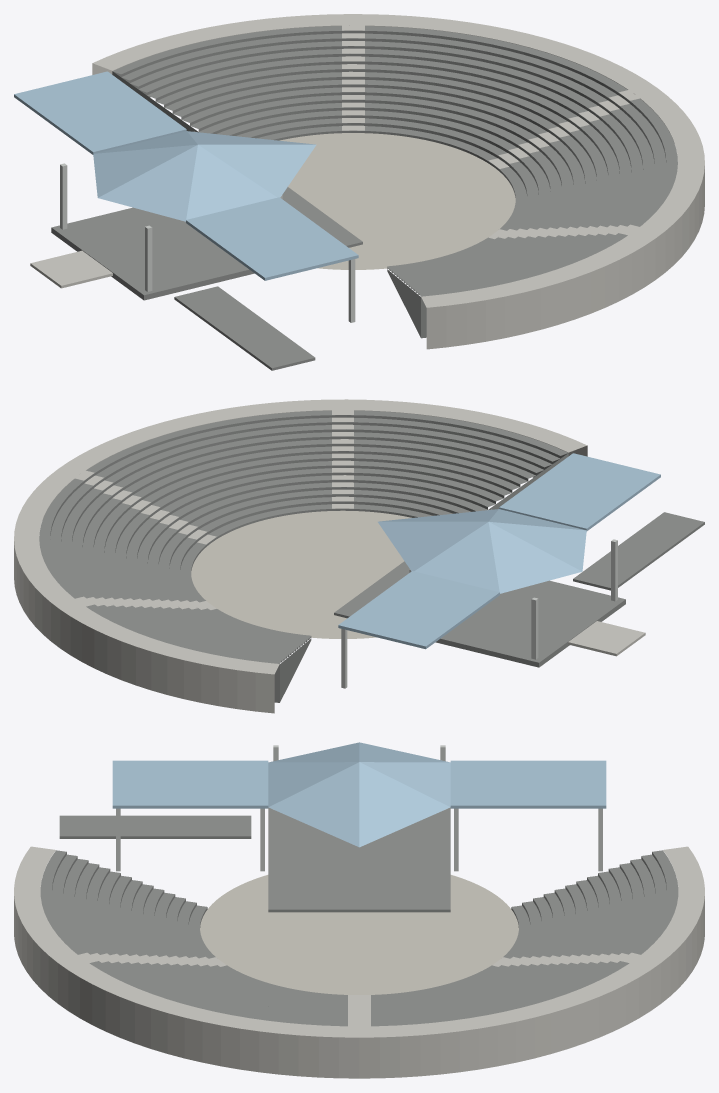
The picture shows the model from 3 angles, top to bottom: view 1: azimuth 30°, elevation 25°; view 2: azimuth 150°, elevation 25°; view 3: azimuth 270°, elevation 25°; orthographic projection. The views are drawn at different scales.
Visible parts, largest first — view 1: c16__seating, c16__rim-walk, c16__arena, c16__canopy, c16__stage, c16__roof-wing1, c16__roof-wing-1, c16__aisle-steps, c16__side-entry-walk, c16__stage-back-walk; view 2: c16__seating, c16__rim-walk, c16__arena, c16__canopy, c16__stage, c16__roof-wing-1, c16__roof-wing1, c16__aisle-steps, c16__side-entry-walk, c16__stage-back-walk; view 3: c16__rim-walk, c16__seating, c16__arena, c16__stage, c16__canopy, c16__roof-wing-1, c16__roof-wing1, c16__side-entry-walk, c16__aisle-steps.
Boxes of the visible parts, x1,y1,x2,y2 form: c16__seating: [112, 26, 677, 338]; c16__rim-walk: [92, 14, 704, 349]; c16__arena: [280, 133, 515, 269]; c16__canopy: [93, 131, 316, 221]; c16__stage: [51, 187, 362, 300]; c16__roof-wing1: [186, 197, 358, 280]; c16__roof-wing-1: [14, 71, 186, 154]; c16__aisle-steps: [342, 25, 639, 239]; c16__side-entry-walk: [174, 286, 315, 370]; c16__stage-back-walk: [30, 250, 112, 288]; c16__seating: [39, 410, 568, 702]; c16__rim-walk: [14, 399, 587, 713]; c16__arena: [191, 510, 411, 638]; c16__canopy: [378, 509, 586, 593]; c16__stage: [334, 561, 625, 667]; c16__roof-wing-1: [338, 571, 499, 649]; c16__roof-wing1: [499, 453, 660, 531]; c16__aisle-steps: [75, 410, 353, 609]; c16__side-entry-walk: [573, 512, 704, 590]; c16__stage-back-walk: [568, 621, 645, 656]; c16__rim-walk: [14, 846, 704, 1078]; c16__seating: [40, 850, 678, 1026]; c16__arena: [200, 875, 518, 994]; c16__stage: [268, 807, 450, 912]; c16__canopy: [268, 742, 450, 847]; c16__roof-wing-1: [450, 760, 606, 808]; c16__roof-wing1: [112, 760, 268, 808]; c16__side-entry-walk: [59, 815, 251, 838]; c16__aisle-steps: [78, 952, 640, 1026].
Bounding box in the file's own units: 36.6 × 5.57 × 36.39.
